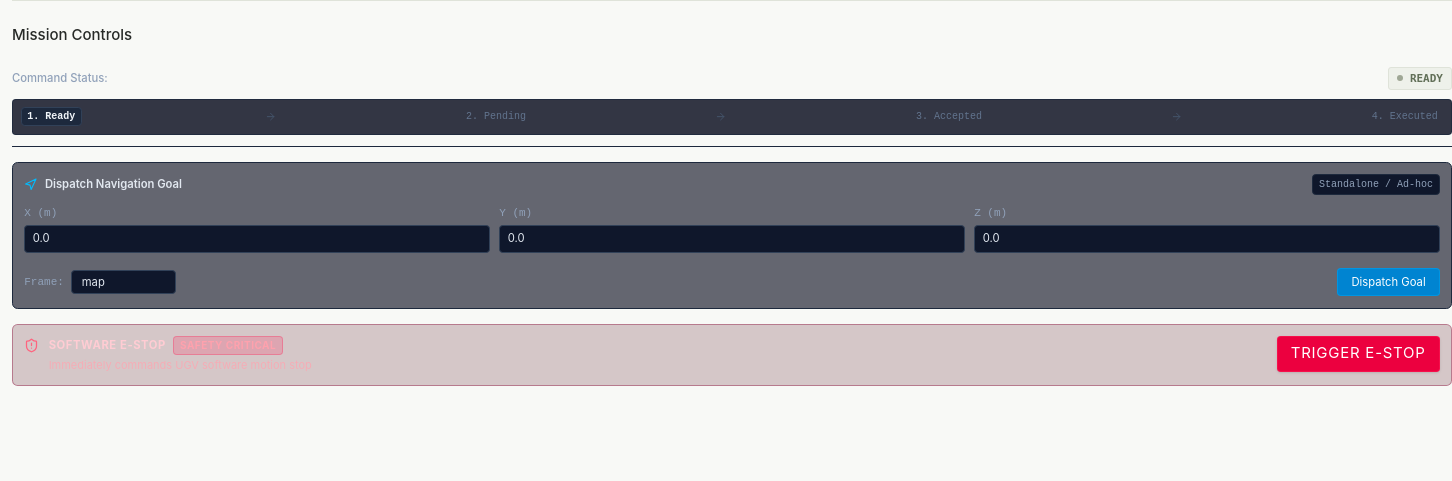
Scenario: MissionControls Component › allows cancelling software E-Stop confirmation
The image size is (1452, 481).
Step 1. Click the button "Trigger E-Stop" → (1358, 354), box [1277, 336, 1440, 372]
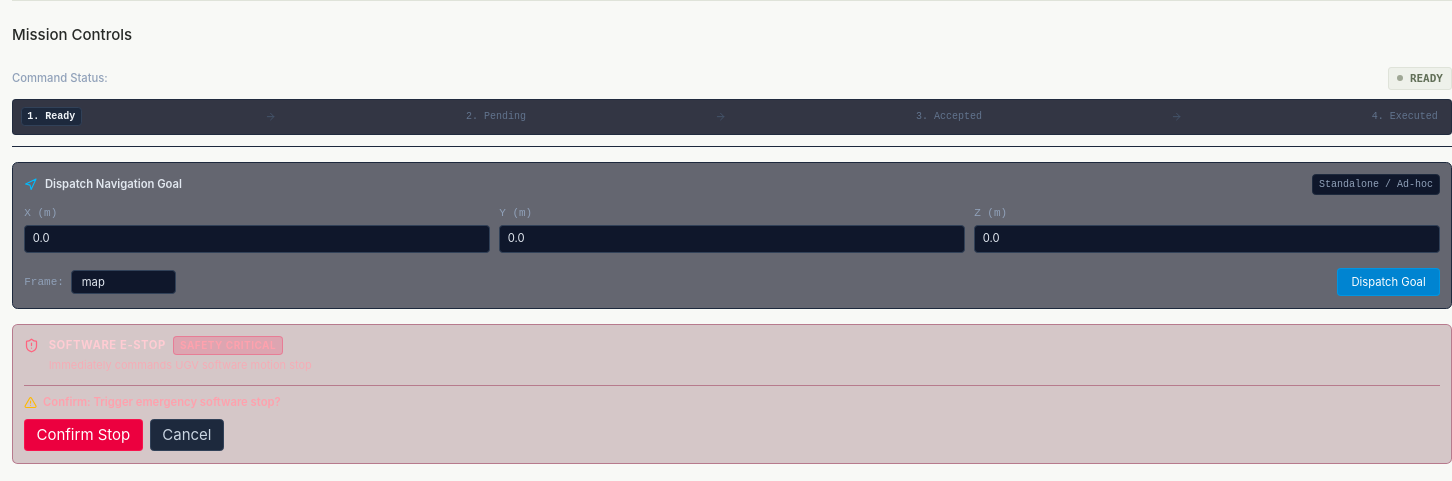
expect the button "Confirm Stop" is shown: met, box [24, 419, 143, 451]
Step 2. Click the button "Cancel" → (187, 435), box [150, 419, 224, 451]
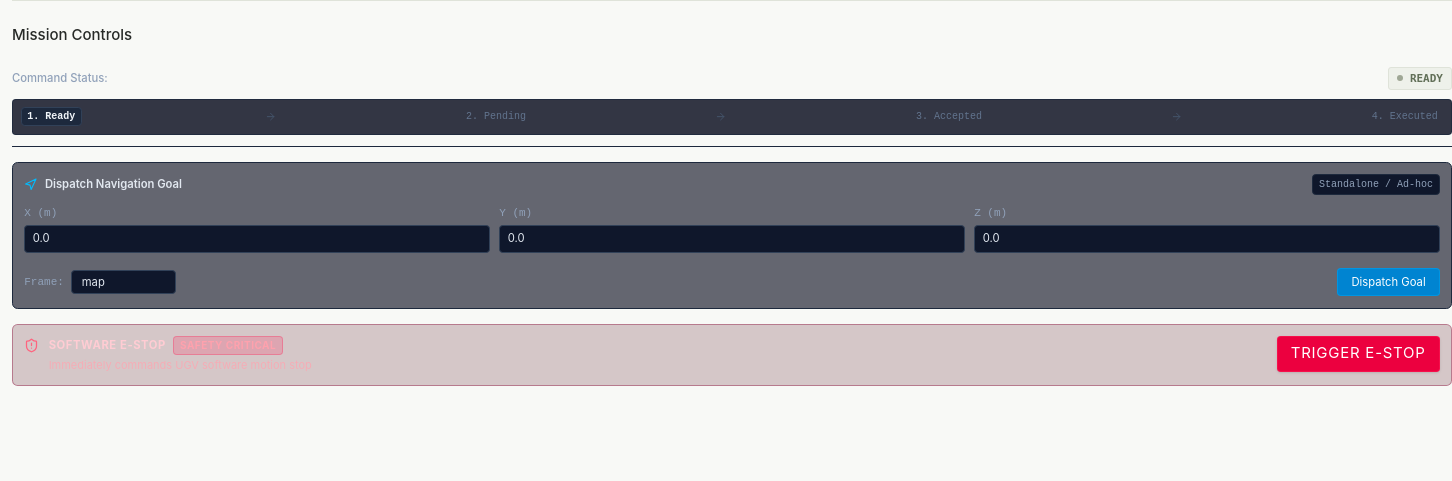
expect the button "Confirm Stop" is gone: met
